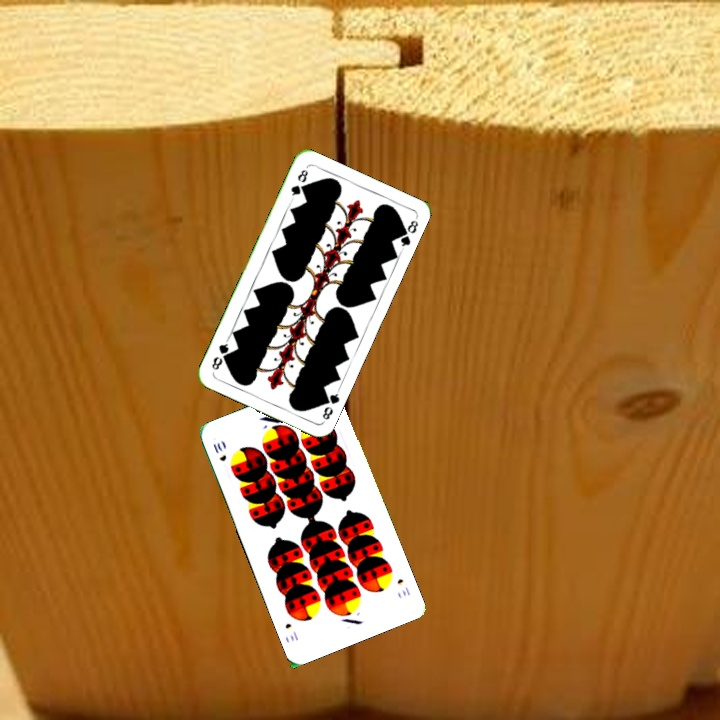G8: (318, 386, 342, 424), (287, 165, 311, 202)
S10: (209, 438, 229, 464), (393, 575, 413, 599)
